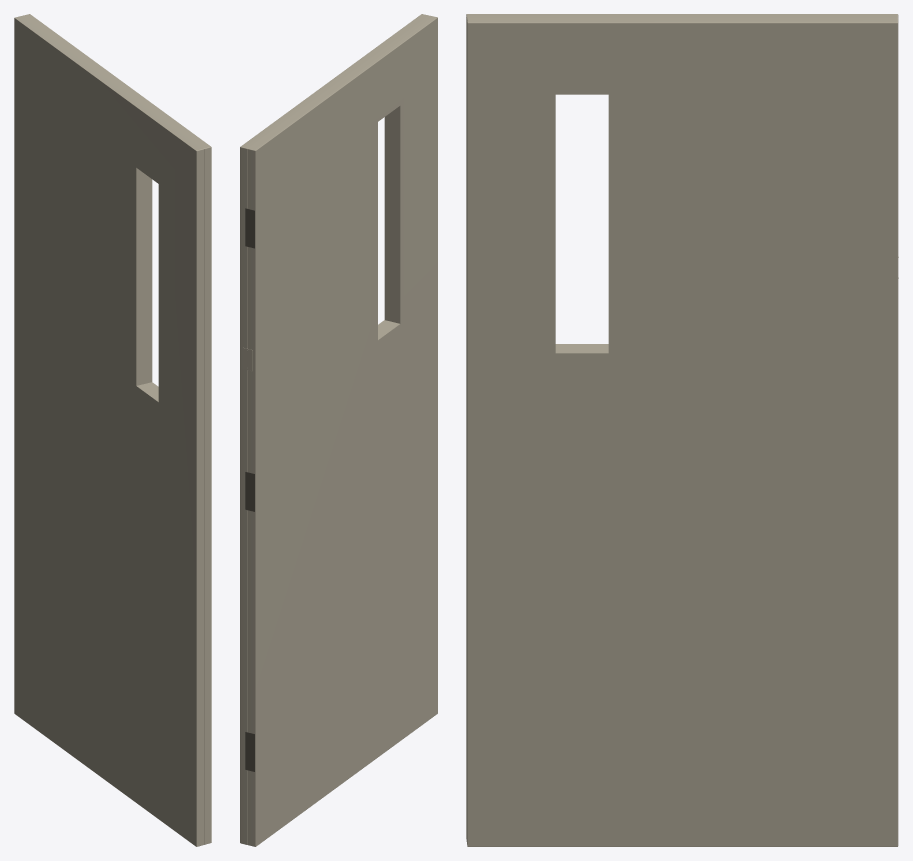
Rendered from Kit_DoorLeaf_Stair.fbx.
3 views of the same model, side by side, from view 1: azimuth 30°, elevation 25°; view 2: azimuth 150°, elevation 25°; view 3: azimuth 270°, elevation 25° (orthographic). The views are drawn at different scales.
Parts seen in each view (by area): view 1: Kit_DoorLeaf_Stair_LOD0; view 2: Kit_DoorLeaf_Stair_LOD0; view 3: Kit_DoorLeaf_Stair_LOD0.
Boxes of the visible parts, x1=… form: Kit_DoorLeaf_Stair_LOD0: x1=14, y1=14, x2=211, y2=846; Kit_DoorLeaf_Stair_LOD0: x1=240, y1=14, x2=437, y2=846; Kit_DoorLeaf_Stair_LOD0: x1=466, y1=14, x2=898, y2=846.
Size of what is drawn, in the model's own units: 0.05 by 2.09 by 0.993.
